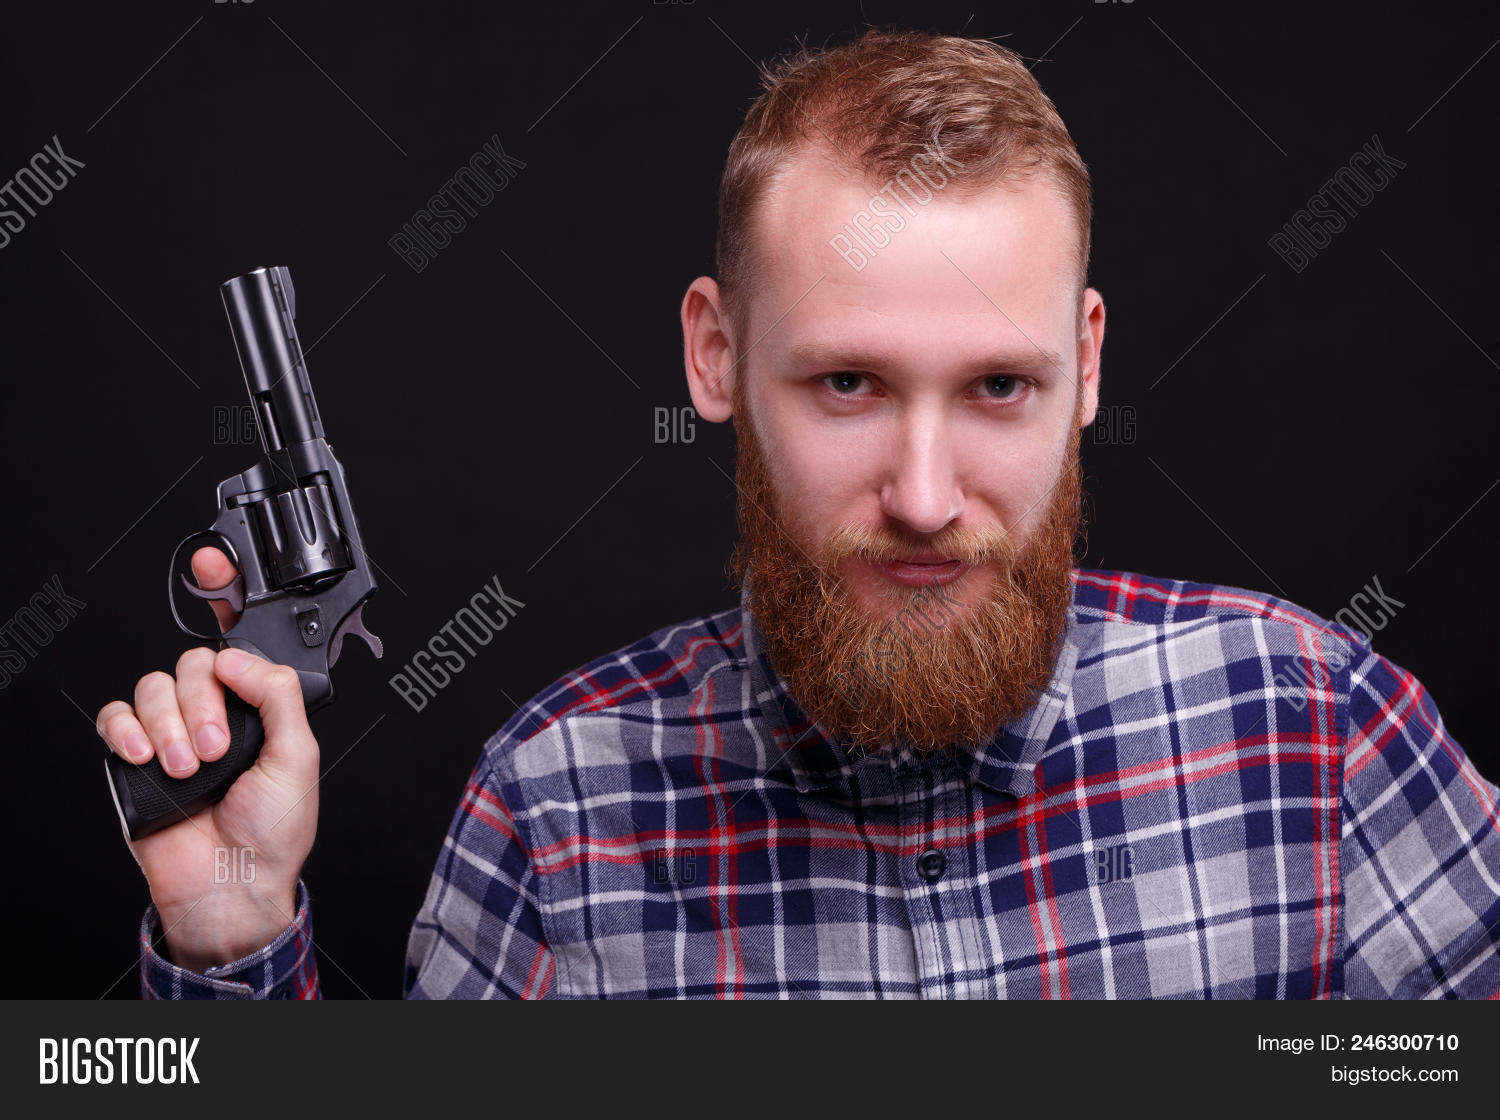Revolver: (85, 227, 394, 852)
